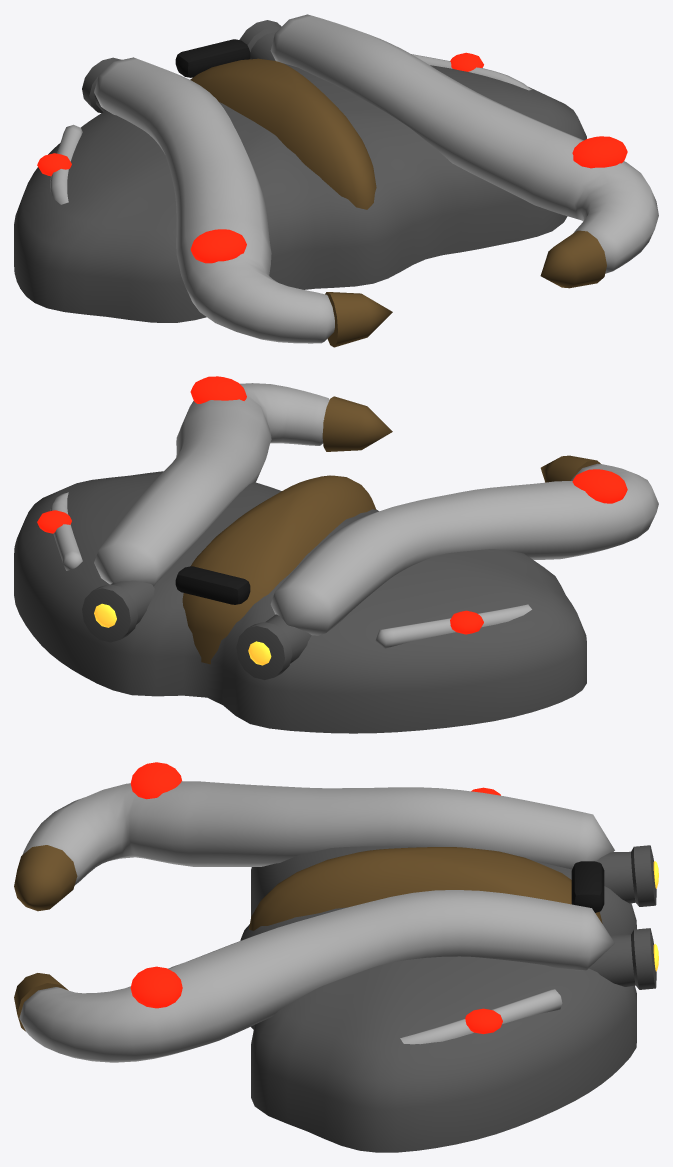
Rendered from sk_tangerine.glb.
3 renders of one model, top to bottom at view 1: azimuth 30°, elevation 25°; view 2: azimuth 150°, elevation 25°; view 3: azimuth 270°, elevation 25°, orthographic. The views are drawn at different scales.
Visible parts, largest first — view 1: body, arm.001, arm, keel, claw_tip.001, claw_tip, keel_slot, lamp, lamp.001, ridge, gun.001, gun (+3 smaller); view 2: body, arm, arm.001, keel, gun.001, gun, claw_tip.001, keel_slot, ridge, lamp, lamp.001, ridge.001 (+3 smaller); view 3: body, arm.001, arm, keel, claw_tip, gun.001, gun, ridge.001, lamp.001, keel_slot, lamp, claw_tip.001 (+1 smaller).
Part boxes in pixels (x1=…): body: x1=14, y1=63, x2=586, y2=322; arm.001: x1=270, y1=14, x2=658, y2=273; arm: x1=94, y1=57, x2=334, y2=343; keel: x1=190, y1=58, x2=376, y2=209; claw_tip.001: x1=540, y1=230, x2=606, y2=288; claw_tip: x1=325, y1=292, x2=392, y2=347; keel_slot: x1=175, y1=39, x2=250, y2=77; lamp: x1=190, y1=229, x2=246, y2=263; lamp.001: x1=572, y1=136, x2=627, y2=168; ridge: x1=50, y1=124, x2=82, y2=204; gun.001: x1=239, y1=20, x2=281, y2=60; gun: x1=82, y1=57, x2=121, y2=113; body: x1=14, y1=471, x2=586, y2=733; arm: x1=270, y1=463, x2=658, y2=635; arm.001: x1=94, y1=383, x2=329, y2=586; keel: x1=182, y1=475, x2=376, y2=664; gun.001: x1=82, y1=580, x2=154, y2=642; gun: x1=236, y1=614, x2=311, y2=679; claw_tip.001: x1=322, y1=396, x2=392, y2=451; keel_slot: x1=175, y1=566, x2=250, y2=604; ridge: x1=375, y1=604, x2=531, y2=648; lamp: x1=572, y1=469, x2=627, y2=503; lamp.001: x1=190, y1=376, x2=246, y2=403; ridge.001: x1=50, y1=492, x2=82, y2=570; body: x1=240, y1=846, x2=636, y2=1152; arm.001: x1=19, y1=890, x2=614, y2=1062; arm: x1=22, y1=781, x2=614, y2=885; keel: x1=249, y1=847, x2=602, y2=930; claw_tip: x1=14, y1=845, x2=77, y2=911; gun.001: x1=589, y1=928, x2=656, y2=989; gun: x1=596, y1=845, x2=656, y2=906; ridge.001: x1=400, y1=989, x2=562, y2=1044; lamp.001: x1=130, y1=966, x2=182, y2=1008; keel_slot: x1=571, y1=861, x2=604, y2=912; lamp: x1=130, y1=762, x2=181, y2=799; claw_tip.001: x1=14, y1=973, x2=68, y2=1031.
Bounding box in the file's own units: 21.3 × 5.43 × 19.74.
